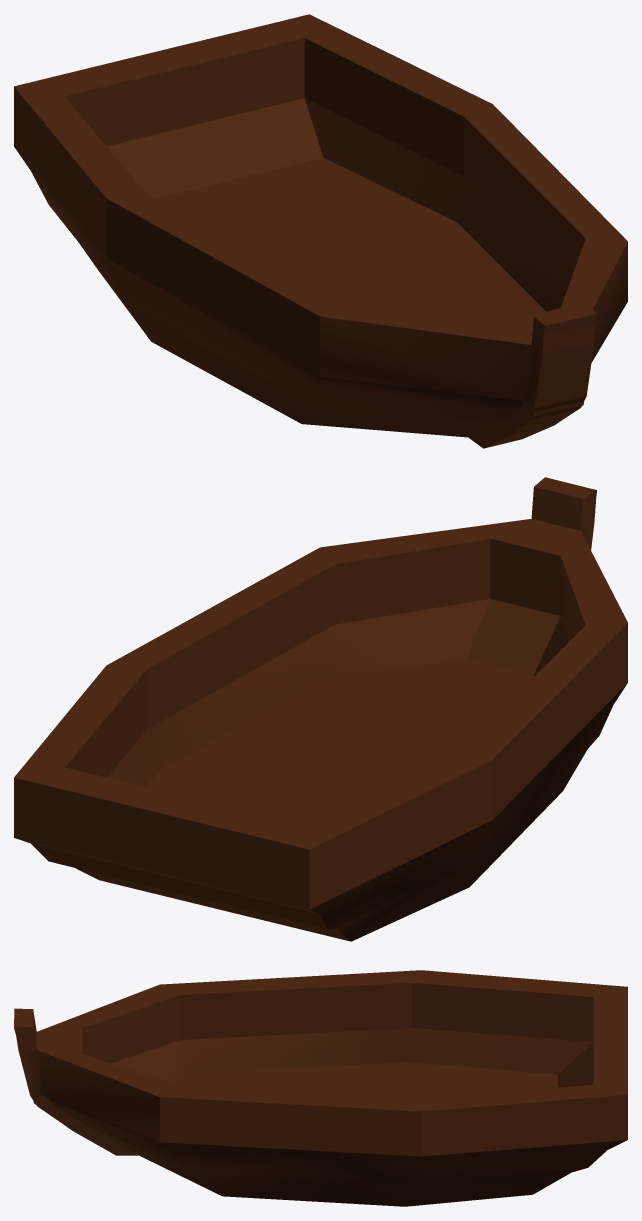
The model's file is Boat.fbx.
3 views of the same model, one above another, from view 1: azimuth 30°, elevation 25°; view 2: azimuth 150°, elevation 25°; view 3: azimuth 270°, elevation 25° (orthographic). The views are drawn at different scales.
Parts seen in each view (by area): view 1: High_Boat, Low_Boat; view 2: High_Boat, Low_Boat; view 3: High_Boat, Low_Boat.
Boxes of the visible parts, x1,y1,x2,y2 form: High_Boat: (14, 14, 627, 448); Low_Boat: (31, 171, 597, 448); High_Boat: (14, 477, 627, 941); Low_Boat: (320, 477, 612, 941); High_Boat: (15, 970, 627, 1195); Low_Boat: (14, 1008, 606, 1206).
Bounding box in the file's own units: 36.45 × 15.69 × 66.94.
